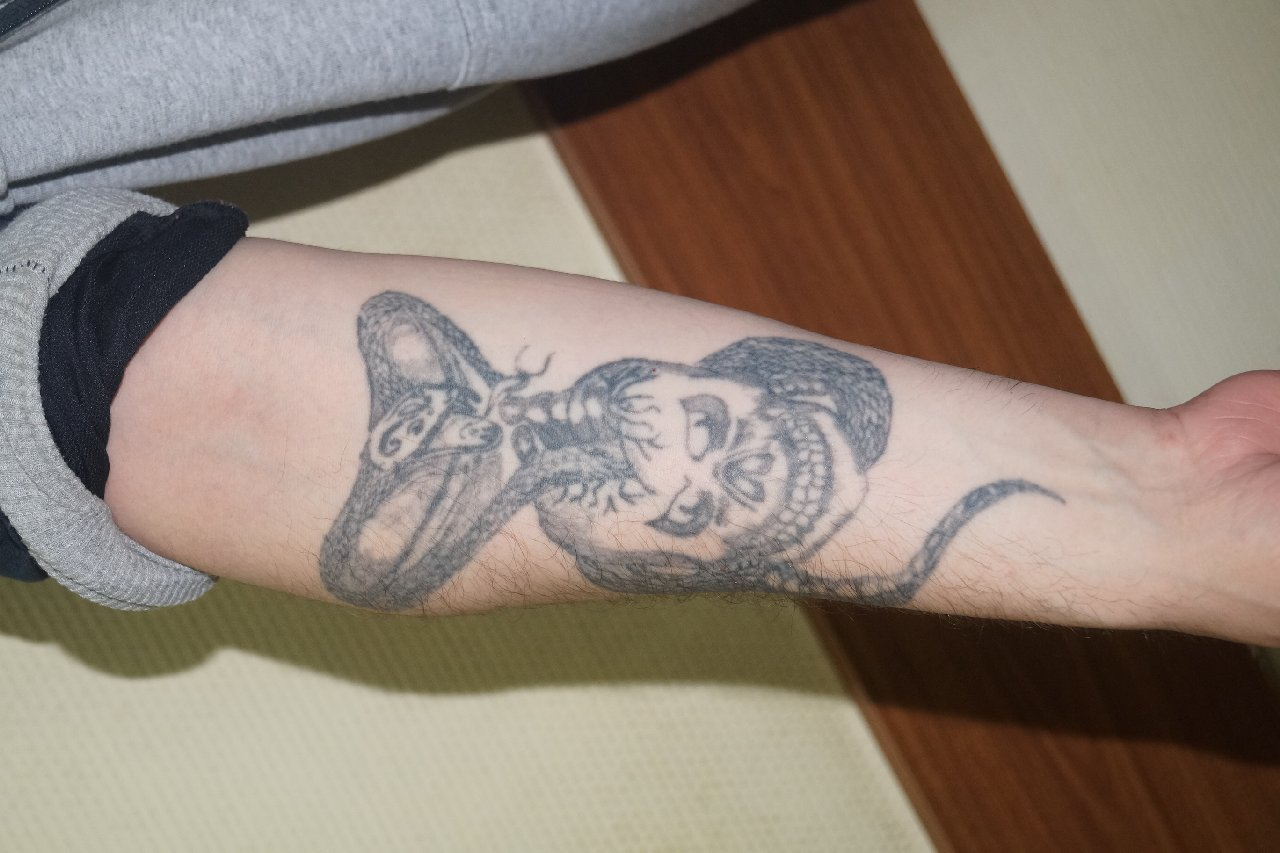tatu7_zmeya: (302, 262, 1090, 626)
